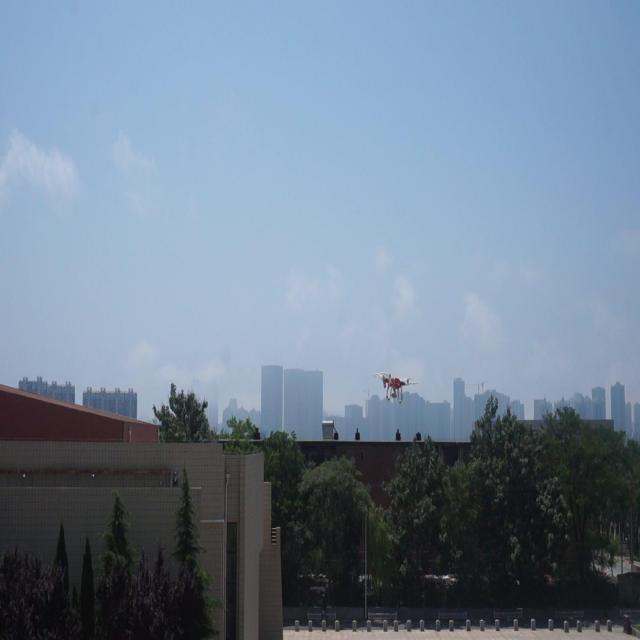UAV: (374, 372, 418, 404)
